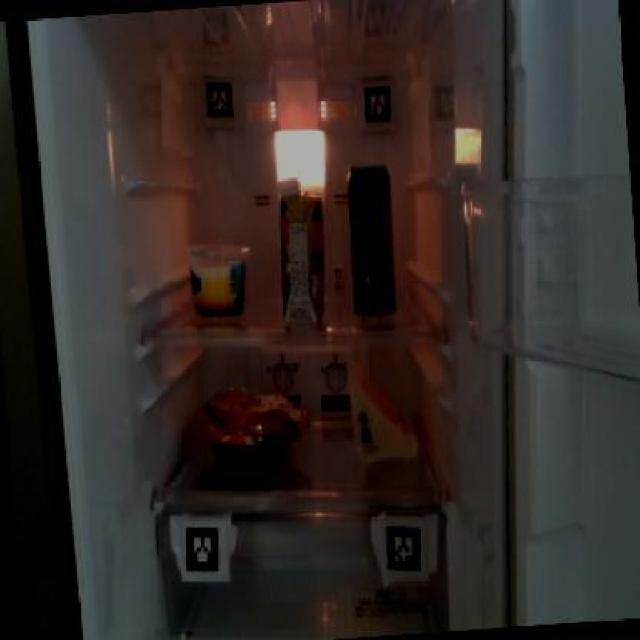bento: (186, 386, 312, 471)
energy_drink: (343, 157, 399, 320)
sandwich: (344, 343, 419, 468), (183, 236, 254, 322)
smoothie: (270, 172, 333, 328)
